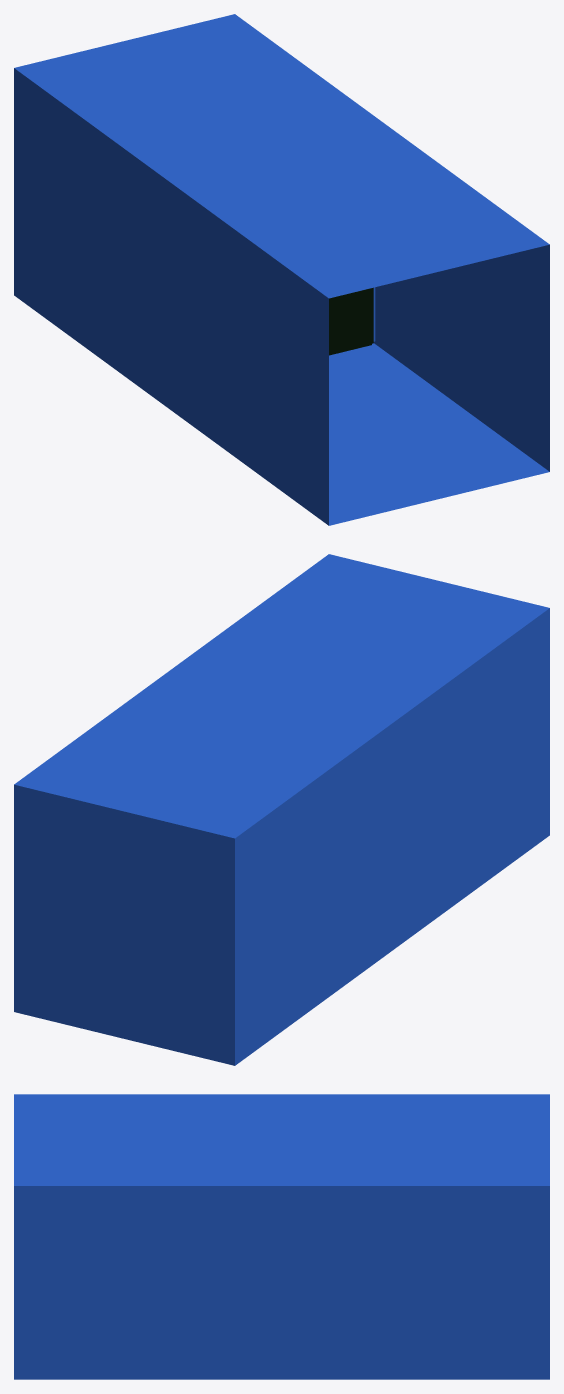
The model's file is Bins01.fbx.
3 views of the same model, one above another, from view 1: azimuth 30°, elevation 25°; view 2: azimuth 150°, elevation 25°; view 3: azimuth 270°, elevation 25° (orthographic). The views are drawn at different scales.
Visible parts, largest first — view 1: BinIso20Bottom, bintop, binleft, binbottom, front_1; view 2: BinIso20Bottom, bintop, binback; view 3: BinIso20Bottom, binright, bintop.
Boxes of the visible parts, left/top/right/bottom form: BinIso20Bottom: left=14, top=74, right=549, bottom=525; bintop: left=14, top=14, right=549, bottom=298; binleft: left=14, top=68, right=324, bottom=515; binbottom: left=329, top=343, right=549, bottom=525; front_1: left=329, top=287, right=373, bottom=354; BinIso20Bottom: left=235, top=608, right=549, bottom=1065; bintop: left=14, top=554, right=549, bottom=838; binback: left=14, top=784, right=234, bottom=1065; BinIso20Bottom: left=14, top=1186, right=549, bottom=1379; binright: left=14, top=1192, right=549, bottom=1379; bintop: left=14, top=1094, right=549, bottom=1185.
Size of the model in its own units: 2390 by 2350 by 5900.
